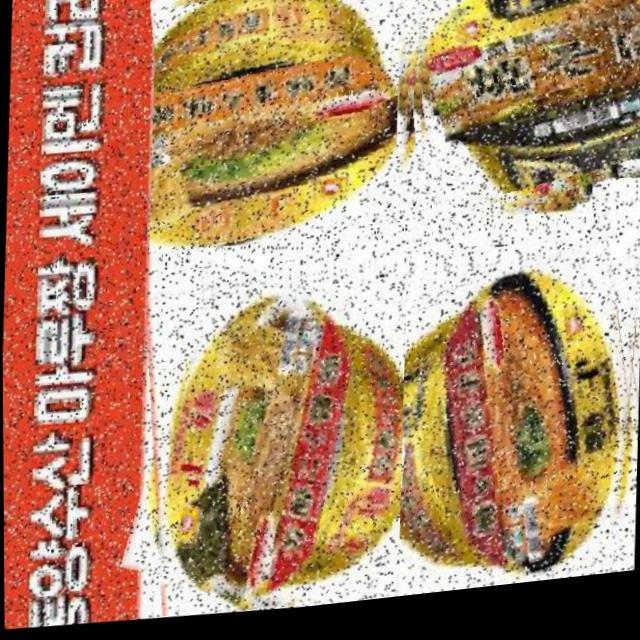Miscellaneous: (132, 256, 438, 629), (393, 250, 640, 606), (146, 0, 432, 264), (406, 0, 640, 237)
